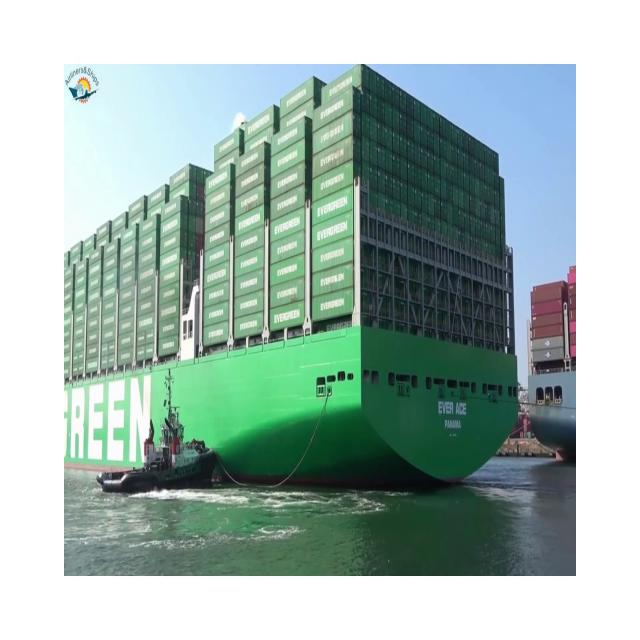OCR: (63, 364, 165, 487), (432, 385, 477, 446)
